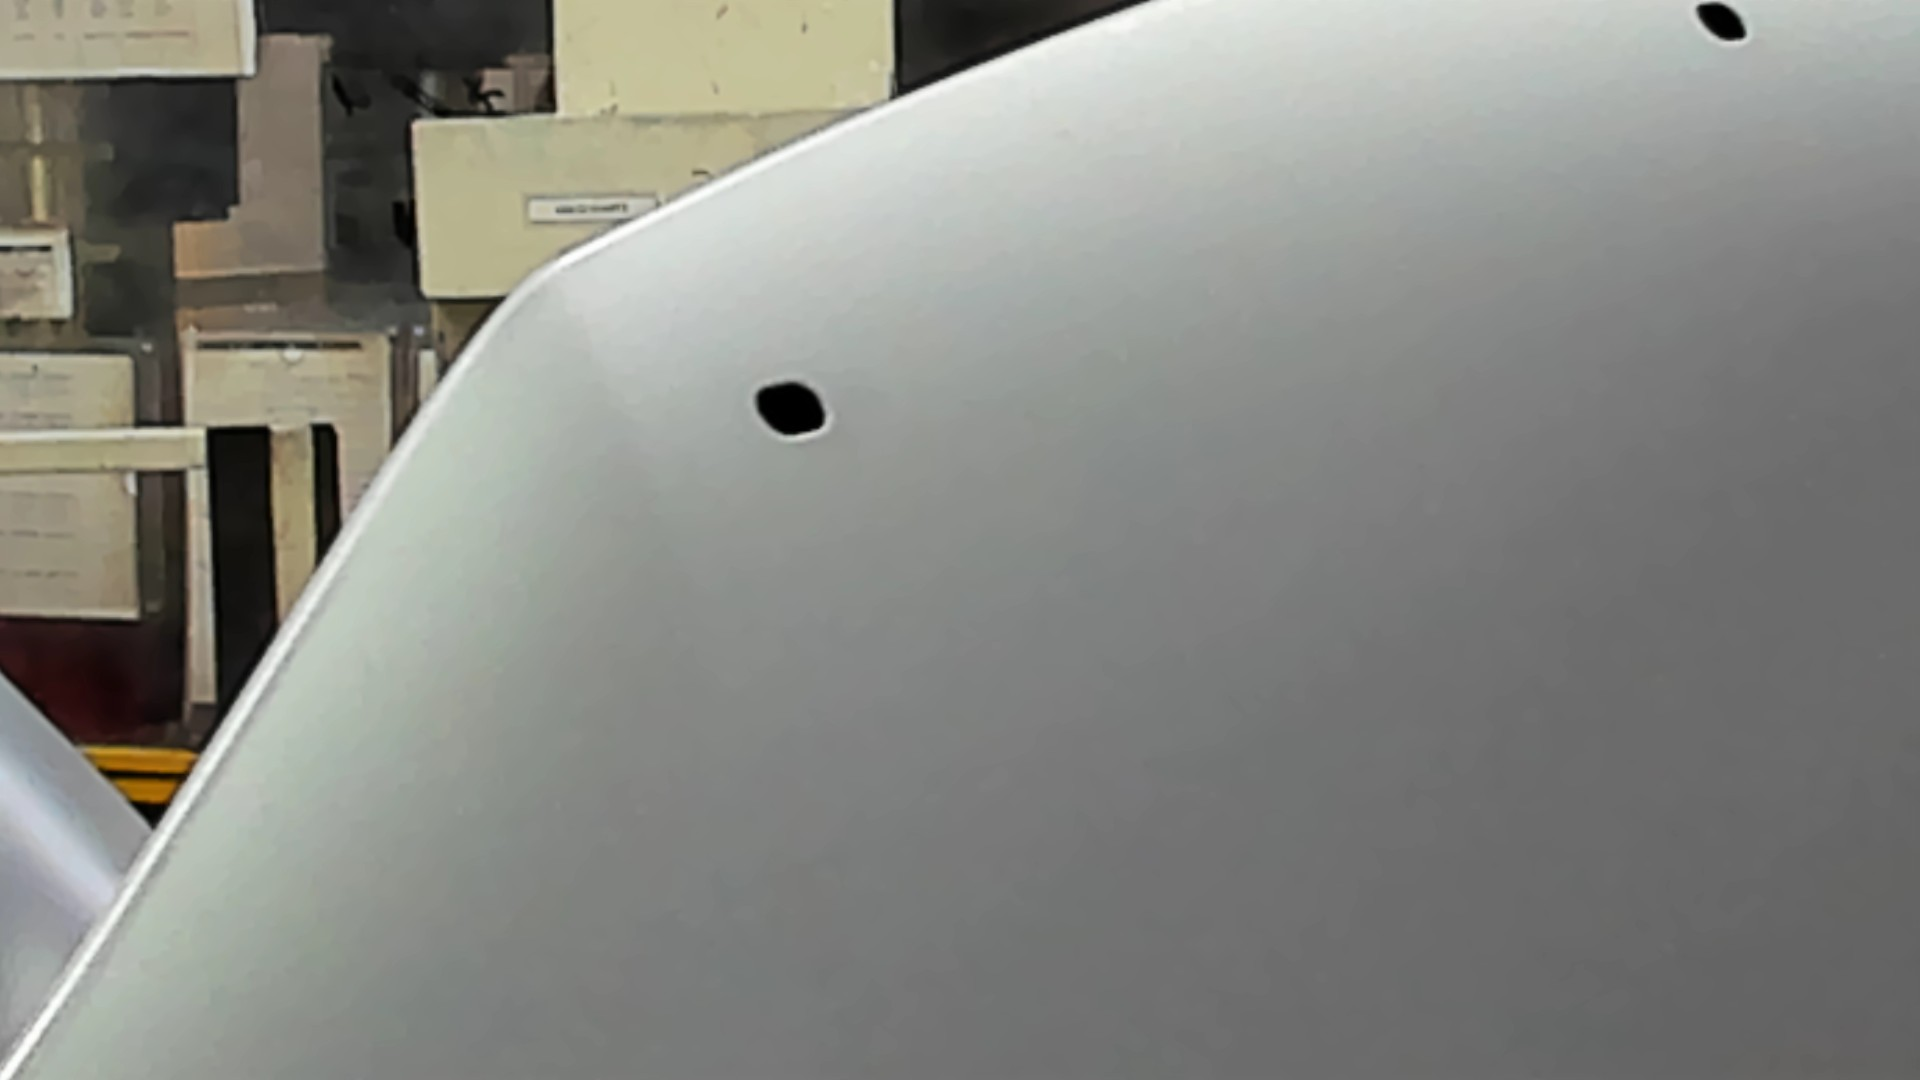amorfo: (752, 373, 833, 444), (1689, 1, 1759, 51)
